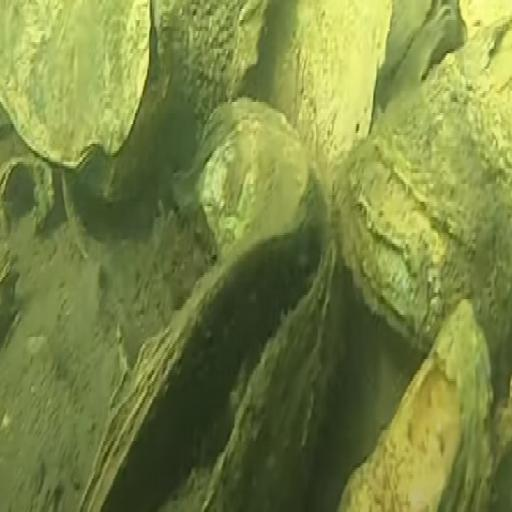Oyster-Closed: (333, 14, 512, 362), (71, 1, 271, 207), (247, 1, 394, 251), (335, 305, 497, 512), (1, 1, 157, 166), (175, 105, 315, 262)
Oyster-Open: (77, 197, 339, 512)
